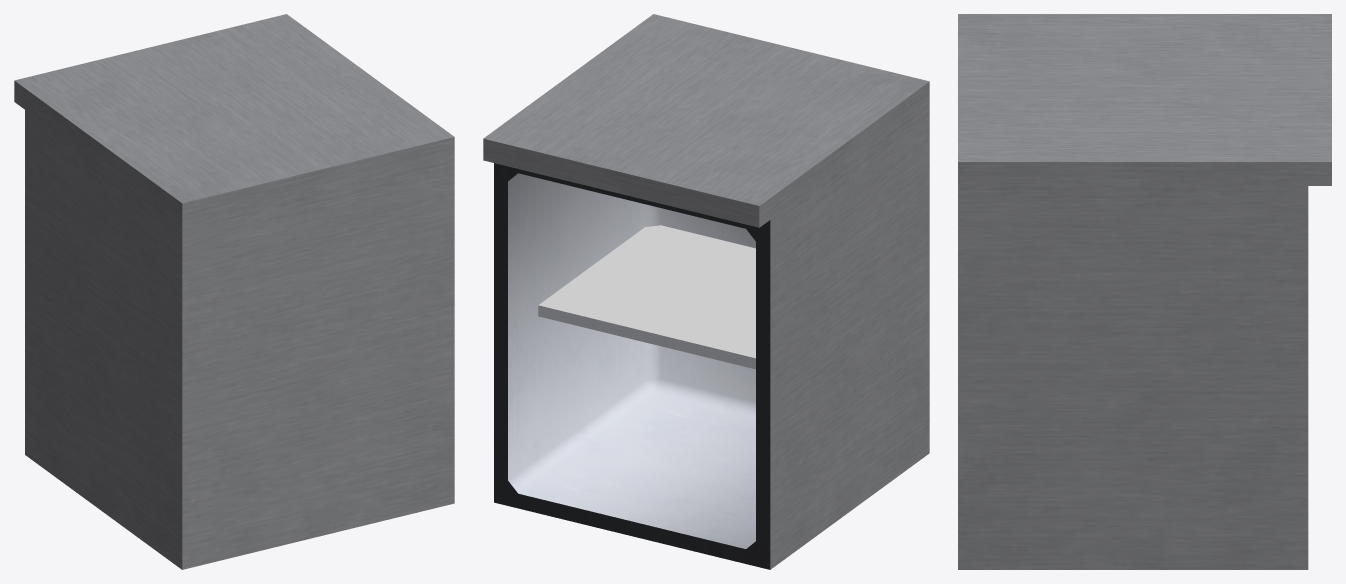
The model's file is Refrigerator_04.glb.
The picture shows the model from 3 angles, left to right: view 1: azimuth 30°, elevation 25°; view 2: azimuth 150°, elevation 25°; view 3: azimuth 270°, elevation 25°; orthographic projection. The views are drawn at different scales.
Parts seen in each view (by area): view 1: Refrigerator_04; view 2: Refrigerator_04; view 3: Refrigerator_04.
Part boxes in pixels (x1,y1,x2,y2): Refrigerator_04: (14, 14, 454, 569); Refrigerator_04: (483, 14, 929, 569); Refrigerator_04: (958, 14, 1331, 569).
Size of the model in its own units: 0.7363 by 0.9468 by 0.7861.
Materials: 4 (3 with a texture image).
